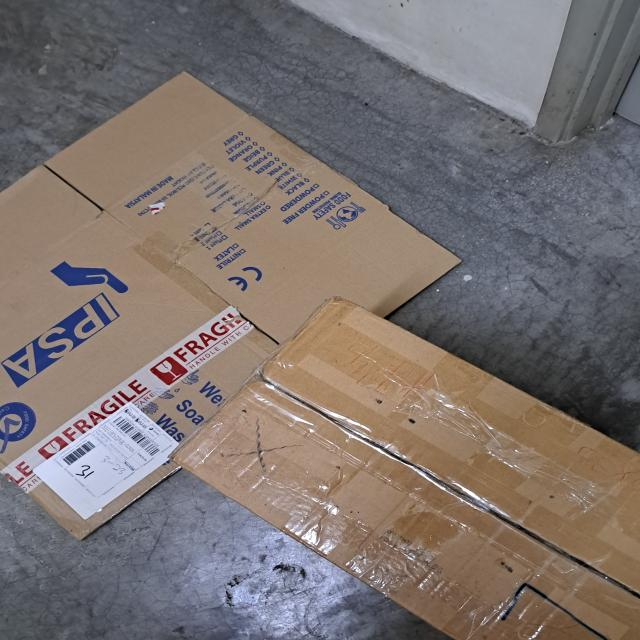cardboard: (0, 68, 460, 543), (168, 295, 640, 640)
